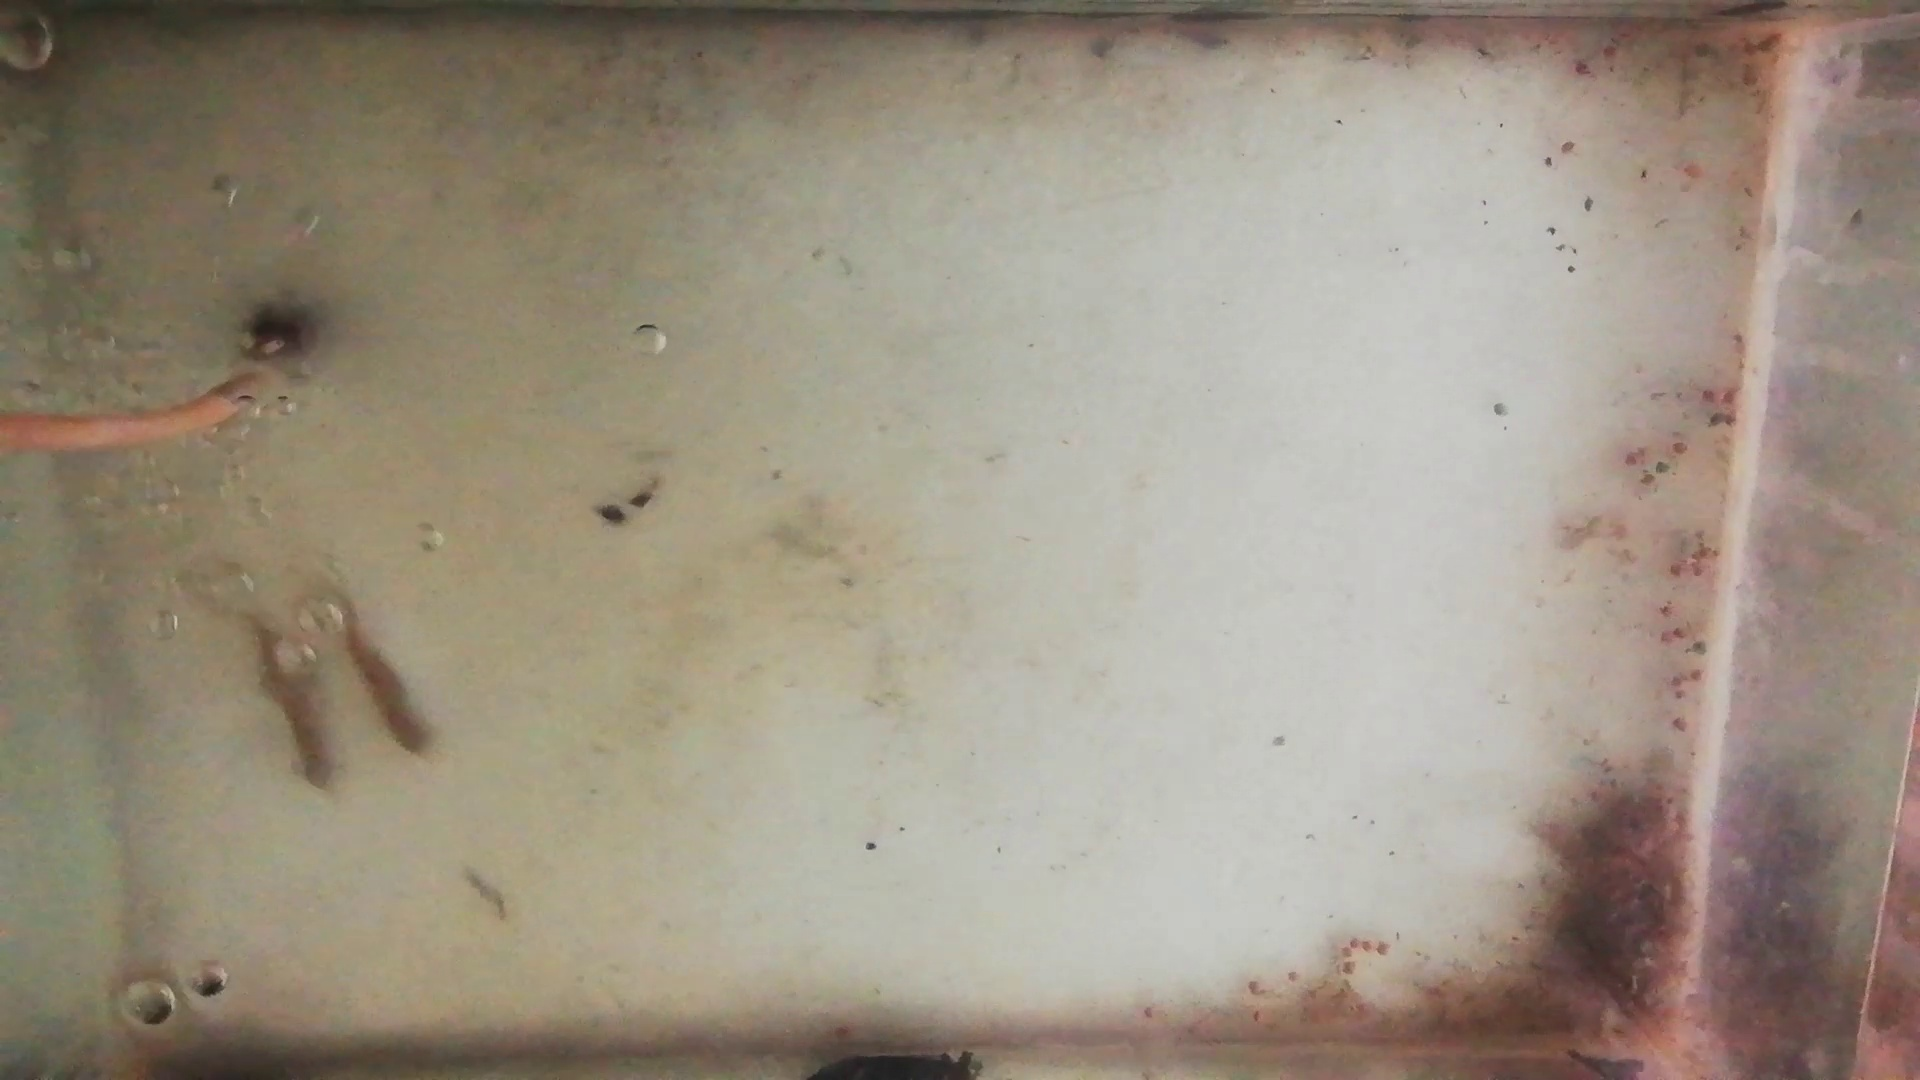fish: (324, 585, 436, 760), (245, 609, 345, 796)
